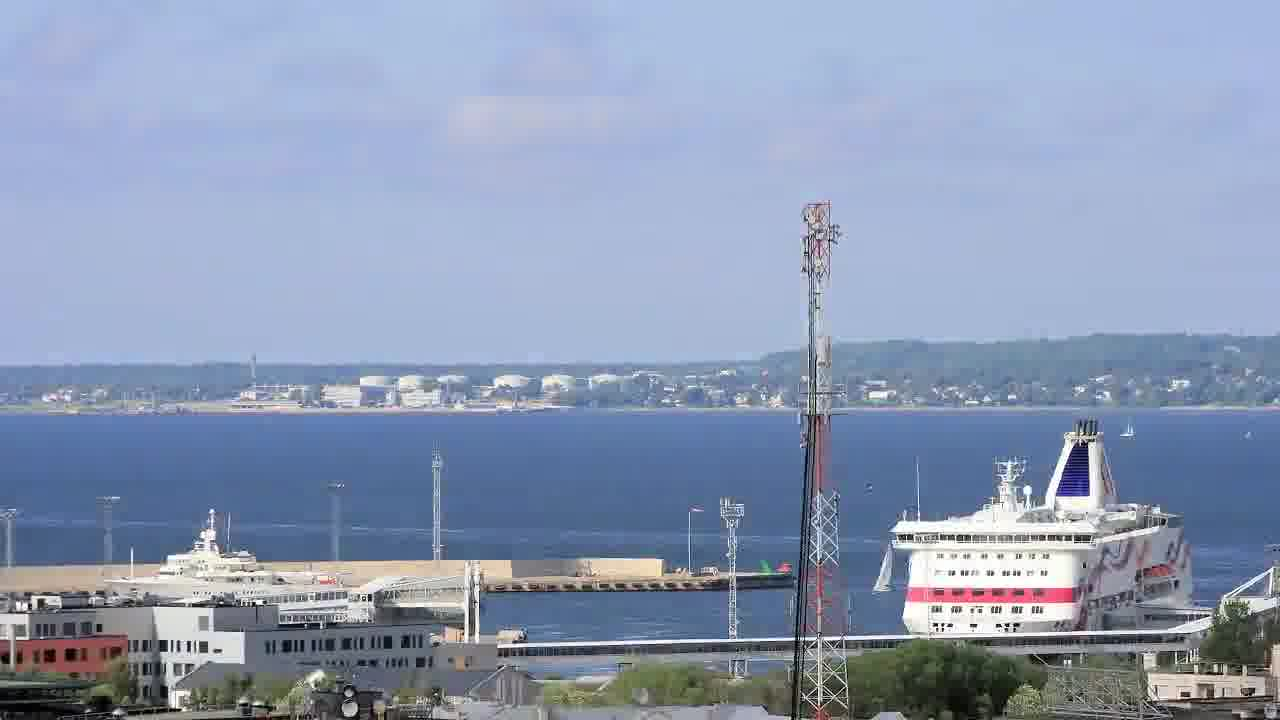type-2: (1104, 404, 1154, 446)
type-3: (868, 415, 1225, 638), (84, 511, 353, 609)
